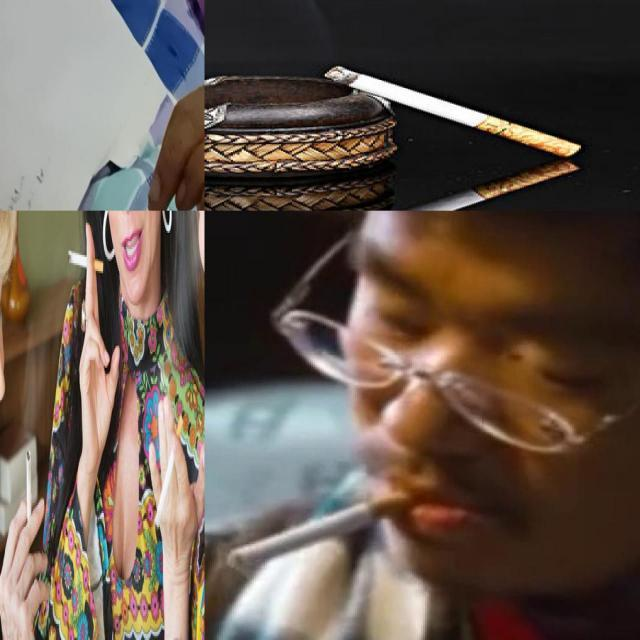cigarette: (321, 63, 584, 160), (227, 488, 421, 574), (154, 412, 184, 529), (68, 248, 104, 276), (26, 448, 32, 530)
